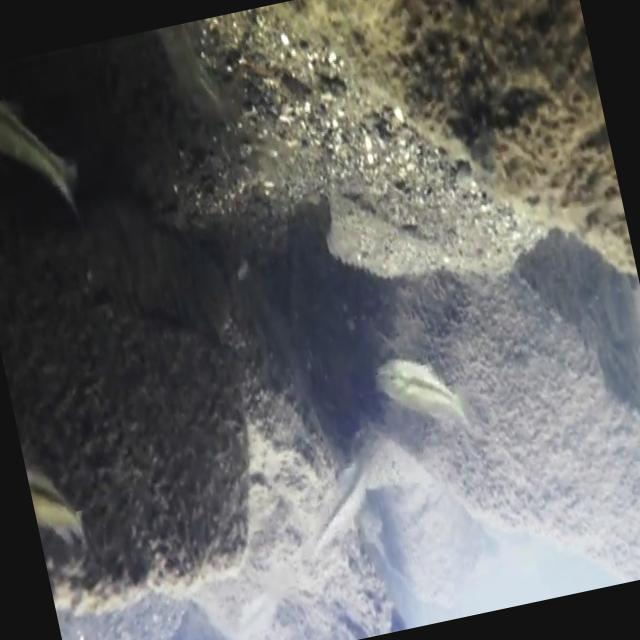Cakil Baligi: (366, 322, 486, 469), (269, 424, 394, 563)
